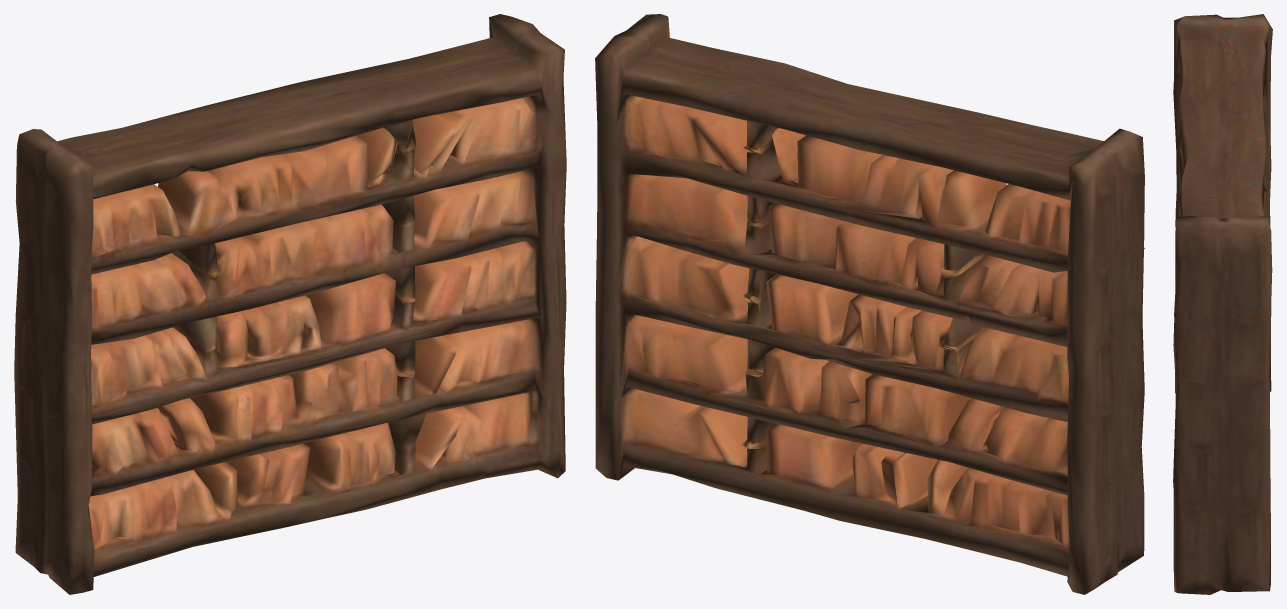
File: tablet_shelf.glb
3 views of the same model, side by side, from view 1: azimuth 30°, elevation 25°; view 2: azimuth 150°, elevation 25°; view 3: azimuth 270°, elevation 25° (orthographic). The views are drawn at different scales.
Visible parts, largest first — view 1: tripo_node_6c15ad0d-6c51-4841-af9d-fb68f409b68e; view 2: tripo_node_6c15ad0d-6c51-4841-af9d-fb68f409b68e; view 3: tripo_node_6c15ad0d-6c51-4841-af9d-fb68f409b68e.
Part boxes in pixels (x1,y1,x2,y2): tripo_node_6c15ad0d-6c51-4841-af9d-fb68f409b68e: (14, 14, 566, 594); tripo_node_6c15ad0d-6c51-4841-af9d-fb68f409b68e: (595, 14, 1144, 594); tripo_node_6c15ad0d-6c51-4841-af9d-fb68f409b68e: (1173, 14, 1272, 594).
Bounding box in the file's own units: 0.9904 × 0.7876 × 0.1911.
Materials: 1 (1 with a texture image).
